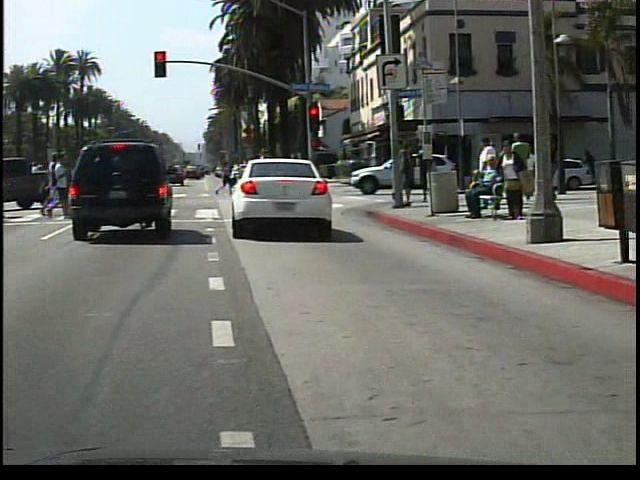person: (500, 138, 537, 225), (467, 157, 508, 218), (251, 144, 285, 217)
